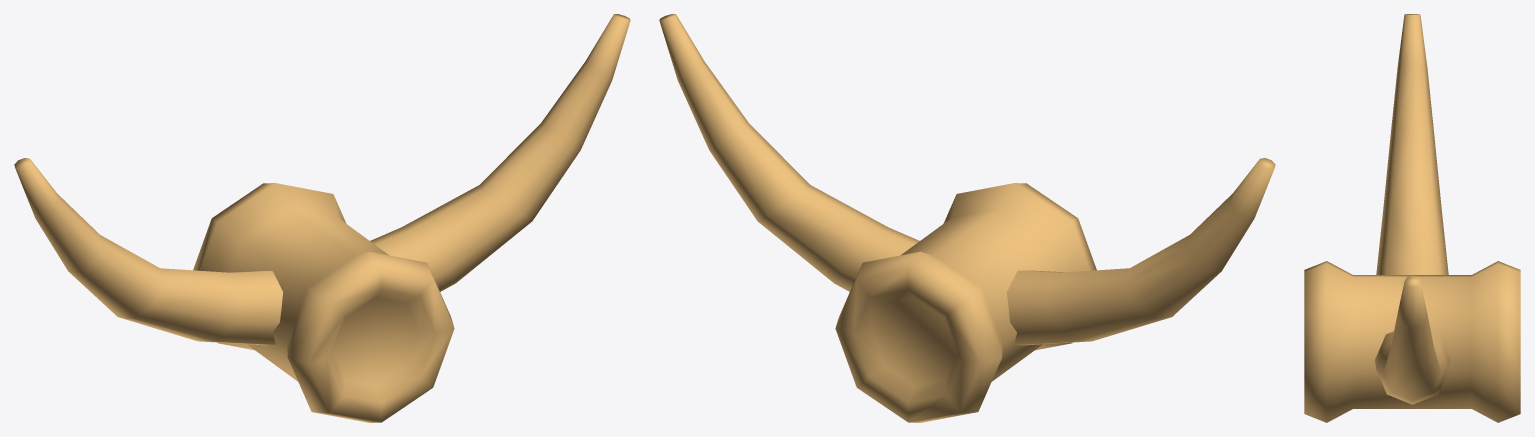
The model's file is Bones_03.fbx.
3 views of the same model, side by side, from view 1: azimuth 30°, elevation 25°; view 2: azimuth 150°, elevation 25°; view 3: azimuth 270°, elevation 25° (orthographic). The views are drawn at different scales.
Visible parts, largest first — view 1: Bones_03; view 2: Bones_03; view 3: Bones_03.
Part boxes in pixels (box(x1,y1,x2,y2)): Bones_03: box(14, 14, 630, 422); Bones_03: box(659, 14, 1275, 422); Bones_03: box(1304, 14, 1520, 422).
Size of the model in its own units: 297 by 139 by 99.36.
